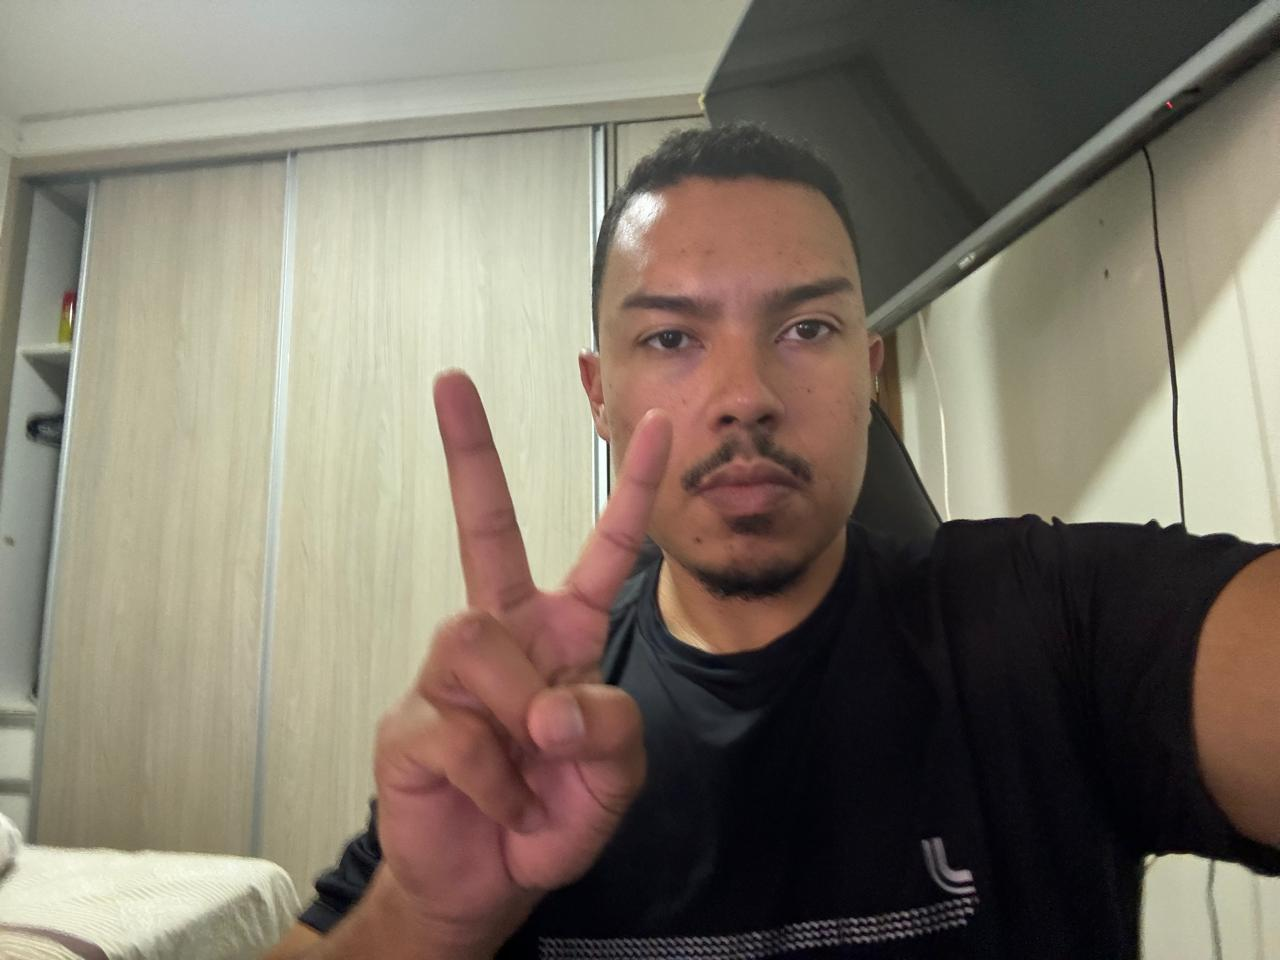v: (367, 359, 685, 921)
